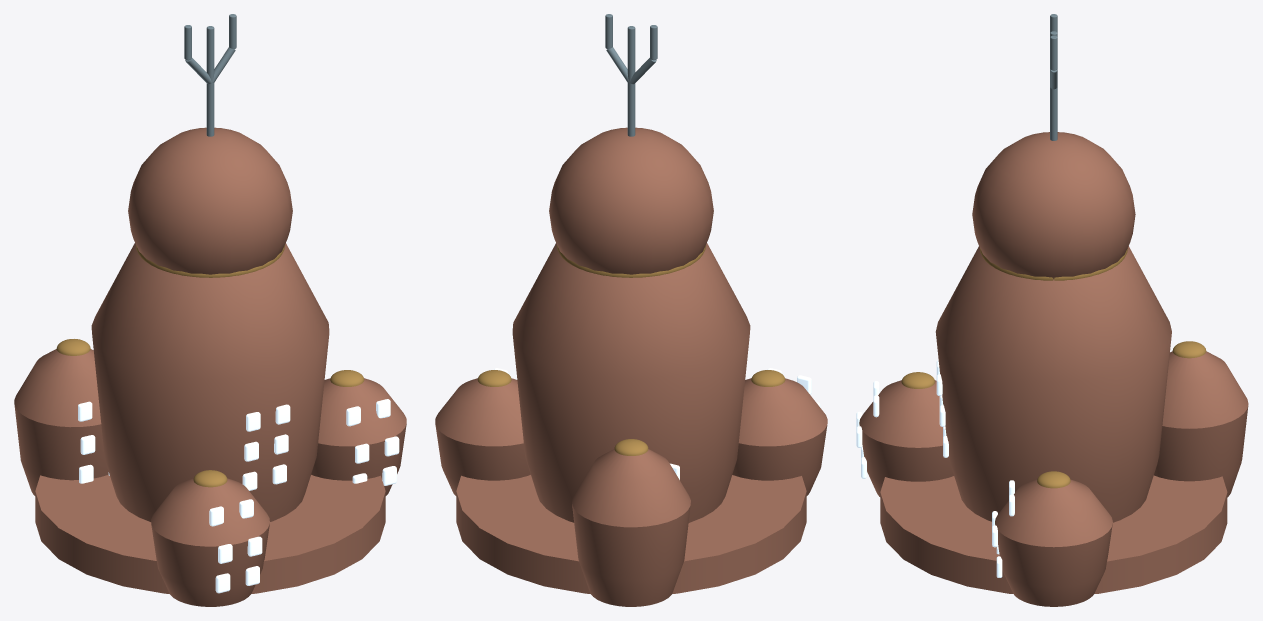
3 renders of one model, left to right at view 1: azimuth 30°, elevation 25°; view 2: azimuth 150°, elevation 25°; view 3: azimuth 270°, elevation 25°, orthographic.
Parts seen in each view (by area): view 1: Bulb shaped chamber, Foundation drum, Stacked rounded vessel, Bulb shaped chamber.003, Bulb shaped chamber.002, Bulb shaped chamber.001, Aerial stem, Rounded vessel collar; view 2: Bulb shaped chamber, Foundation drum, Stacked rounded vessel, Bulb shaped chamber.002, Bulb shaped chamber.003, Bulb shaped chamber.001, Aerial stem, Rounded vessel collar; view 3: Bulb shaped chamber, Foundation drum, Stacked rounded vessel, Bulb shaped chamber.001, Bulb shaped chamber.002, Bulb shaped chamber.003, Rounded vessel collar.
Boxes of the visible parts, <box> form: Bulb shaped chamber: <box>91,243,329,521</box>; Foundation drum: <box>35,475,385,593</box>; Stacked rounded vessel: <box>128,127,292,274</box>; Bulb shaped chamber.003: <box>151,478,269,606</box>; Bulb shaped chamber.002: <box>14,349,108,495</box>; Bulb shaped chamber.001: <box>311,378,406,495</box>; Aerial stem: <box>206,26,214,136</box>; Rounded vessel collar: <box>136,245,284,277</box>; Bulb shaped chamber: <box>512,243,750,522</box>; Foundation drum: <box>456,475,806,593</box>; Stacked rounded vessel: <box>549,127,713,274</box>; Bulb shaped chamber.002: <box>572,449,690,606</box>; Bulb shaped chamber.003: <box>732,378,827,495</box>; Bulb shaped chamber.001: <box>435,378,530,495</box>; Aerial stem: <box>627,26,635,136</box>; Rounded vessel collar: <box>557,245,705,277</box>; Bulb shaped chamber: <box>935,246,1171,522</box>; Foundation drum: <box>880,475,1227,593</box>; Stacked rounded vessel: <box>972,132,1135,279</box>; Bulb shaped chamber.001: <box>995,479,1112,606</box>; Bulb shaped chamber.002: <box>1154,351,1248,497</box>; Bulb shaped chamber.003: <box>859,380,953,496</box>; Rounded vessel collar: <box>980,248,1127,280</box>.
Bounding box in the file's own units: 2.29 × 3.22 × 2.3.
